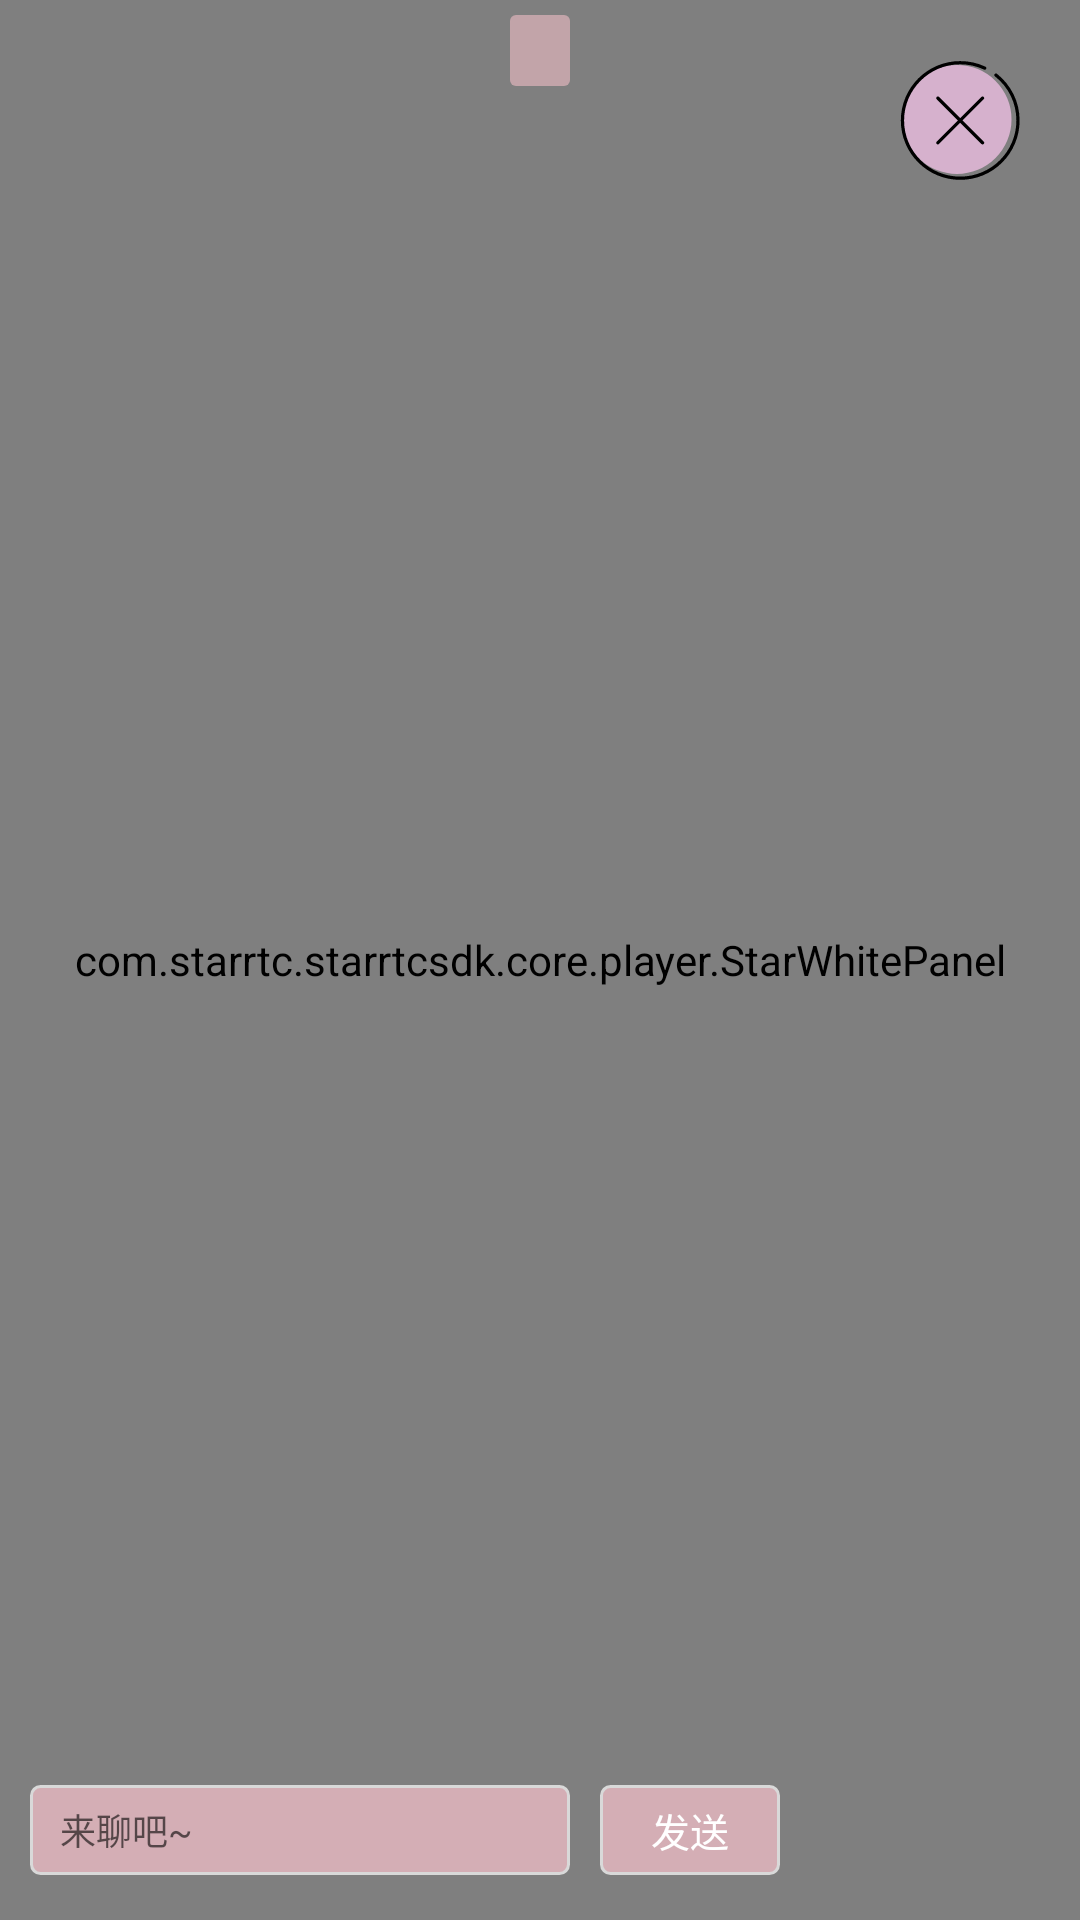

Icon click points for this 1080w x 1920h phone screenshot, format [x,y]:
close live: [960,120]
